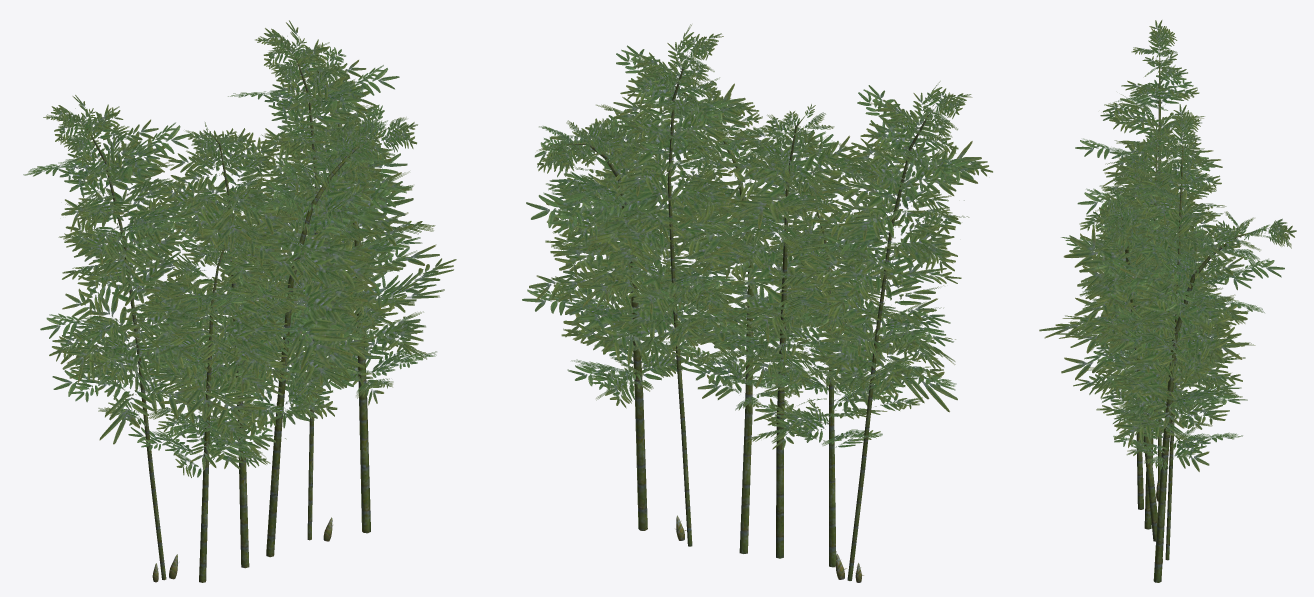
Rendered from p_com_zhuzi01.FBX.
The picture shows the model from 3 angles, left to right: view 1: azimuth 30°, elevation 25°; view 2: azimuth 150°, elevation 25°; view 3: azimuth 270°, elevation 25°; orthographic projection. The views are drawn at different scales.
Visible parts, largest first — view 1: p_com_zhuzi01; view 2: p_com_zhuzi01; view 3: p_com_zhuzi01.
Boxes of the visible parts, x1,y1,x2,y2 form: p_com_zhuzi01: (23,20,456,582); p_com_zhuzi01: (522,24,992,582); p_com_zhuzi01: (1039,20,1296,582).
Bounding box in the file's own units: 10.95 × 12.64 × 6.9.
